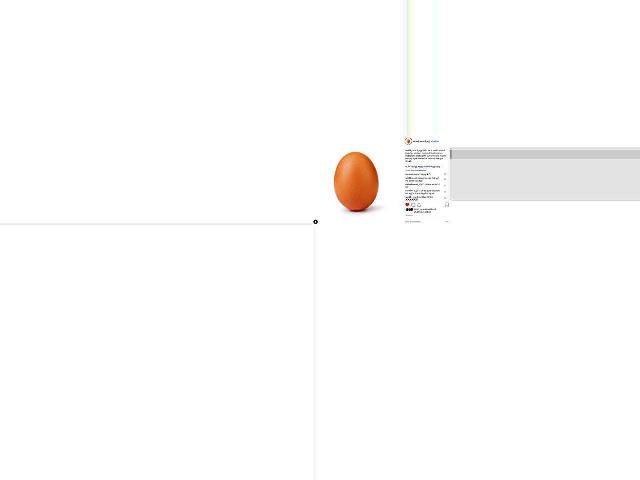egg: (334, 152, 378, 210)
